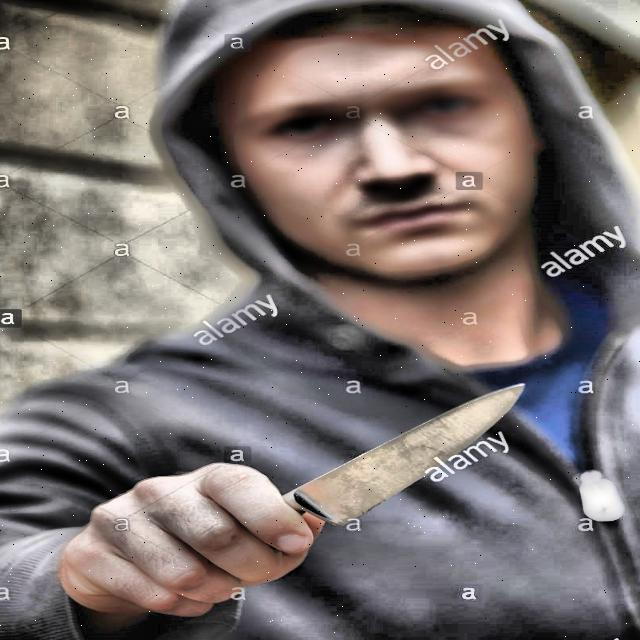knife: (281, 384, 520, 528)
